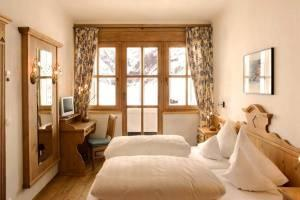window: (86, 45, 201, 107)
